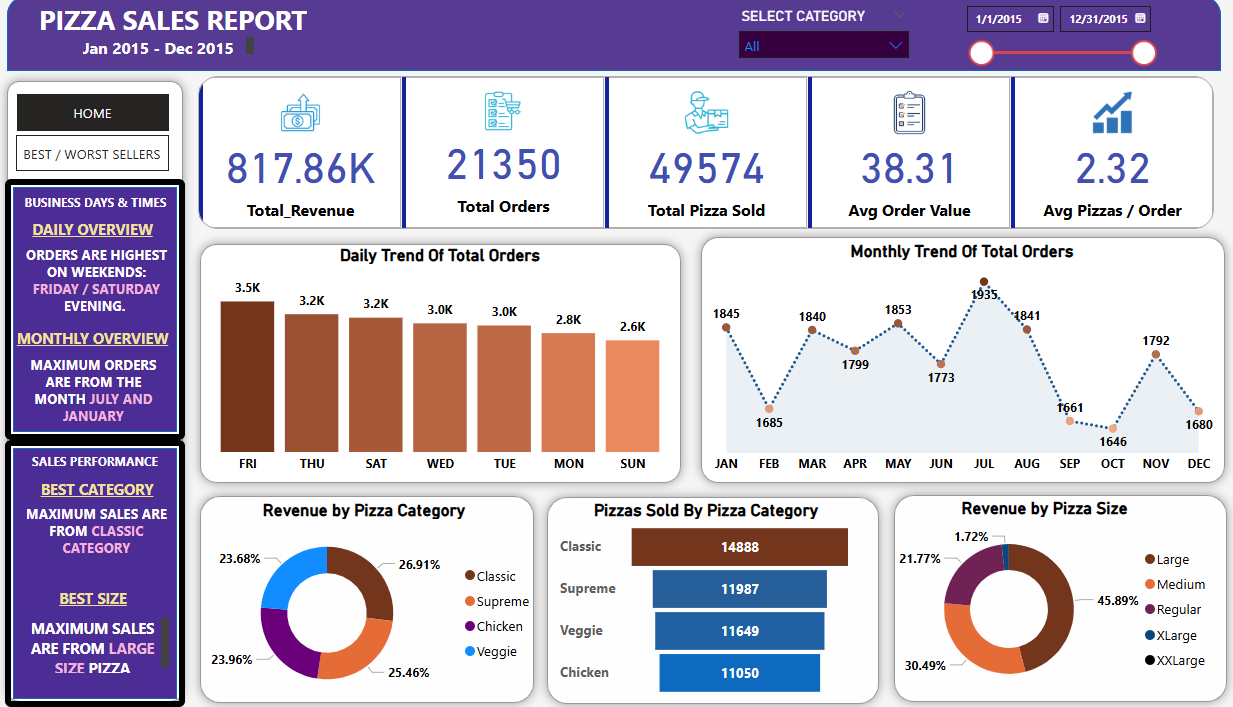

The page's visual inventory and layout, read from the dashboard file:
{"tool":"powerbi","page":{"name":"HOME","canvas":[1280,720],"ordinal":0},"visuals":[{"type":"shape","box":[22.7,75.5,196.4,640.9],"z":0},{"type":"cardVisual","fields":{"Data":["pizza_sales.Total_Revenue","pizza_sales.Total_Orders","pizza_sales.Total Pizza Sold","pizza_sales.Avg Order Value","pizza_sales.Avg Pizzas Per Order"]},"box":[211.8,75.5,1044.5,162.7],"z":1000},{"type":"shape","box":[32.7,0,1214.5,75.5],"z":2000},{"type":"textbox","box":[0,0,399.1,50.9],"z":3000},{"type":"textbox","box":[103.6,36.4,180.9,28.2],"z":4000},{"type":"shape","box":[216.4,238.1,501,259],"z":5000},{"type":"columnChart","title":"Daily Trend Of Total Orders","fields":{"Category":["pizza_sales.Order Day"],"Y":["pizza_sales.Total_Orders"]},"box":[216.4,249.1,501,237],"z":6000},{"type":"shape","box":[717.4,231.1,544,266],"z":7000},{"type":"areaChart","title":"Monthly Trend Of Total Orders","fields":{"Category":["pizza_sales.Month Order"],"Y":["pizza_sales.Total_Orders"]},"box":[730.4,245.1,517,241],"z":8000},{"type":"shape","box":[216,490,354,227],"z":9000},{"type":"donutChart","title":"Revenue by Pizza Category","fields":{"Category":["pizza_sales.pizza_category"],"Y":["pizza_sales.Total_Revenue"]},"box":[211,504,359,207],"z":10000},{"type":"shape","box":[910,489,353,227],"z":11000},{"type":"donutChart","title":"Revenue by Pizza Size","fields":{"Y":["pizza_sales.Total_Revenue"],"Category":["pizza_sales.pizza_size"]},"box":[895,502,352,203],"z":12000},{"type":"shape","box":[563,491,352,227],"z":13000},{"type":"funnel","title":"Pizzas Sold  By Pizza Category","fields":{"Category":["pizza_sales.pizza_category"],"Y":["pizza_sales.Total Pizza Sold"]},"box":[581,504,303,201],"z":14000},{"type":"shape","box":[31,183,180,261],"z":15000},{"type":"shape","box":[31,444,180,267],"z":16000},{"type":"textbox","box":[46,192,238,31],"z":17000},{"type":"textbox","box":[0,451,243,27],"z":18000},{"type":"textbox","box":[42.7,218.2,152.7,40],"z":19000},{"type":"textbox","box":[29.1,327.3,180,40],"z":20000},{"type":"textbox","box":[34.5,478.2,177.3,40],"z":21000},{"type":"textbox","box":[30.9,587.3,177.3,40],"z":22000},{"type":"slicer","fields":{"Values":["pizza_sales.order_date"]},"box":[980,0,211.8,75.5],"z":23000},{"type":"slicer","fields":{"Values":["pizza_sales.pizza_category"]},"box":[755.5,7.3,189.1,57.3],"z":24000},{"type":"textbox","box":[46.4,245.5,153.6,90.9],"z":25000},{"type":"textbox","box":[44.5,354.5,150.9,83.6],"z":26000},{"type":"textbox","box":[46.4,503.6,153.6,64.5],"z":27000},{"type":"textbox","box":[46.4,617.3,153.6,64.5],"z":28000},{"type":"pageNavigator","box":[42.7,98.2,152.7,36.4],"z":28001},{"type":"pageNavigator","box":[41.8,139.1,152.7,36.4],"z":28002}]}

Visuals, with their boxes in screenshot pixels (x1, y1, x2, y2), scaled from the page's 1280x720 canvas onto the 1233x707 screenshot:
shape: left=22, top=74, right=211, bottom=703
cardVisual - pizza_sales.Total_Revenue x pizza_sales.Total_Orders: left=204, top=74, right=1210, bottom=234
shape: left=31, top=0, right=1201, bottom=74
textbox: left=0, top=0, right=384, bottom=50
textbox: left=100, top=36, right=274, bottom=63
shape: left=208, top=234, right=691, bottom=488
"Daily Trend Of Total Orders" columnChart: left=208, top=245, right=691, bottom=477
shape: left=691, top=227, right=1215, bottom=488
"Monthly Trend Of Total Orders" areaChart: left=704, top=241, right=1202, bottom=477
shape: left=208, top=481, right=549, bottom=704
"Revenue by Pizza Category" donutChart: left=203, top=495, right=549, bottom=698
shape: left=877, top=480, right=1217, bottom=703
"Revenue by Pizza Size" donutChart: left=862, top=493, right=1201, bottom=692
shape: left=542, top=482, right=881, bottom=705
"Pizzas Sold  By Pizza Category" funnel: left=560, top=495, right=852, bottom=692
shape: left=30, top=180, right=203, bottom=436
shape: left=30, top=436, right=203, bottom=698
textbox: left=44, top=189, right=274, bottom=219
textbox: left=0, top=443, right=234, bottom=469
textbox: left=41, top=214, right=188, bottom=254
textbox: left=28, top=321, right=201, bottom=361
textbox: left=33, top=470, right=204, bottom=509
textbox: left=30, top=577, right=201, bottom=616
slicer - pizza_sales.order_date: left=944, top=0, right=1148, bottom=74
slicer - pizza_sales.pizza_category: left=728, top=7, right=910, bottom=63
textbox: left=45, top=241, right=193, bottom=330
textbox: left=43, top=348, right=188, bottom=430
textbox: left=45, top=495, right=193, bottom=558
textbox: left=45, top=606, right=193, bottom=669
pageNavigator: left=41, top=96, right=188, bottom=132
pageNavigator: left=40, top=137, right=187, bottom=172
